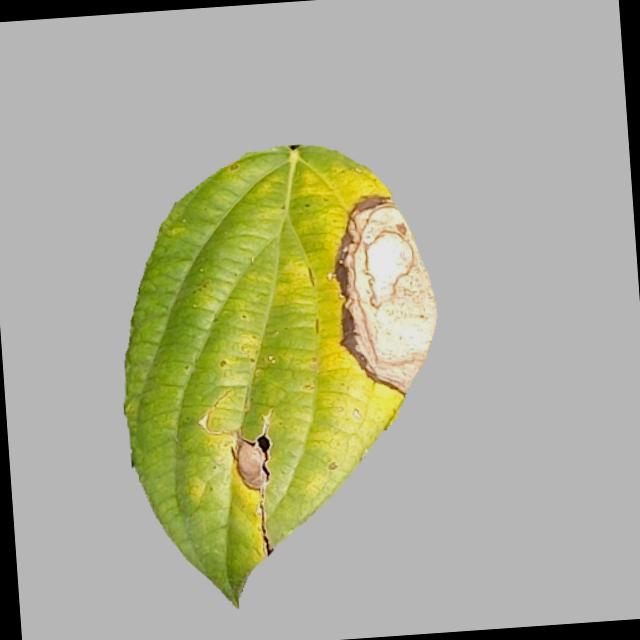leaf-blight: (90, 138, 486, 615)
